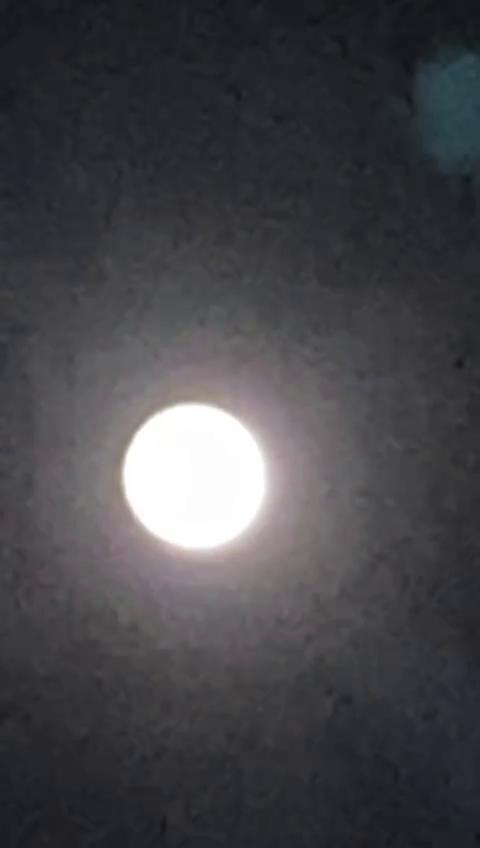moon: (106, 384, 274, 575)
